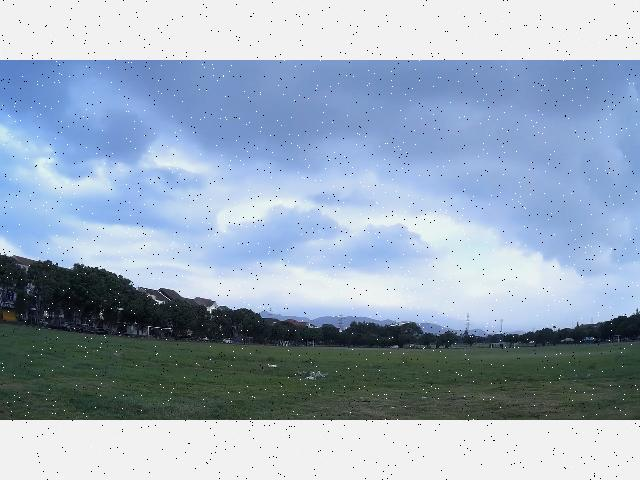Anti-Drone: (388, 322, 410, 326)
